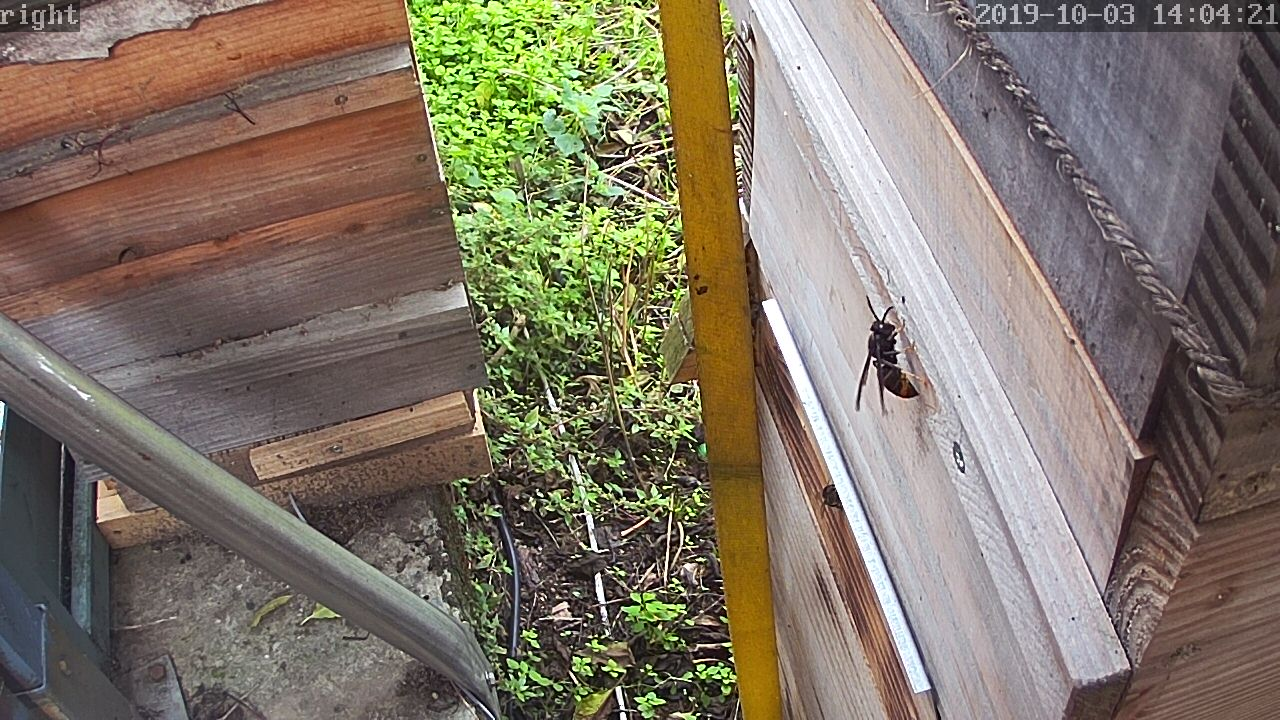bee: (812, 481, 848, 515)
hornet: (851, 303, 931, 414)
